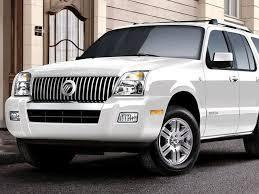Mercury: (59, 75, 81, 99)
